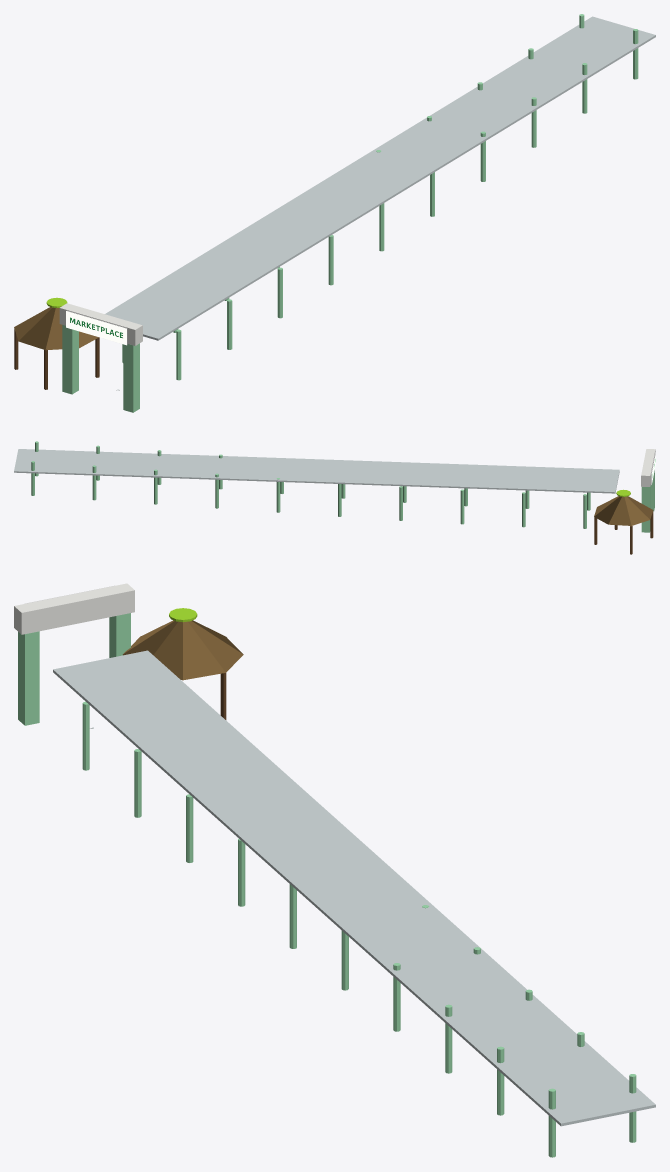
The model's file is mkt_arch.glb.
The picture shows the model from 3 angles, top to bottom: view 1: azimuth 30°, elevation 25°; view 2: azimuth 150°, elevation 25°; view 3: azimuth 270°, elevation 25°; orthographic projection. The views are drawn at different scales.
Visible parts, largest first — view 1: mkt_arch_lod0; view 2: mkt_arch_lod0; view 3: mkt_arch_lod0.
Part boxes in pixels (left/top/right/bottom): mkt_arch_lod0: left=14, top=14, right=655, bottom=412; mkt_arch_lod0: left=14, top=441, right=655, bottom=554; mkt_arch_lod0: left=14, top=583, right=655, bottom=1157.
Size of what is drawn, in the model's own units: 60.34 by 6.42 by 31.78.
Materials: 9 (1 with a texture image).
